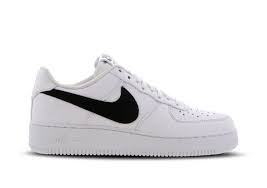nike: (35, 78, 153, 130)
